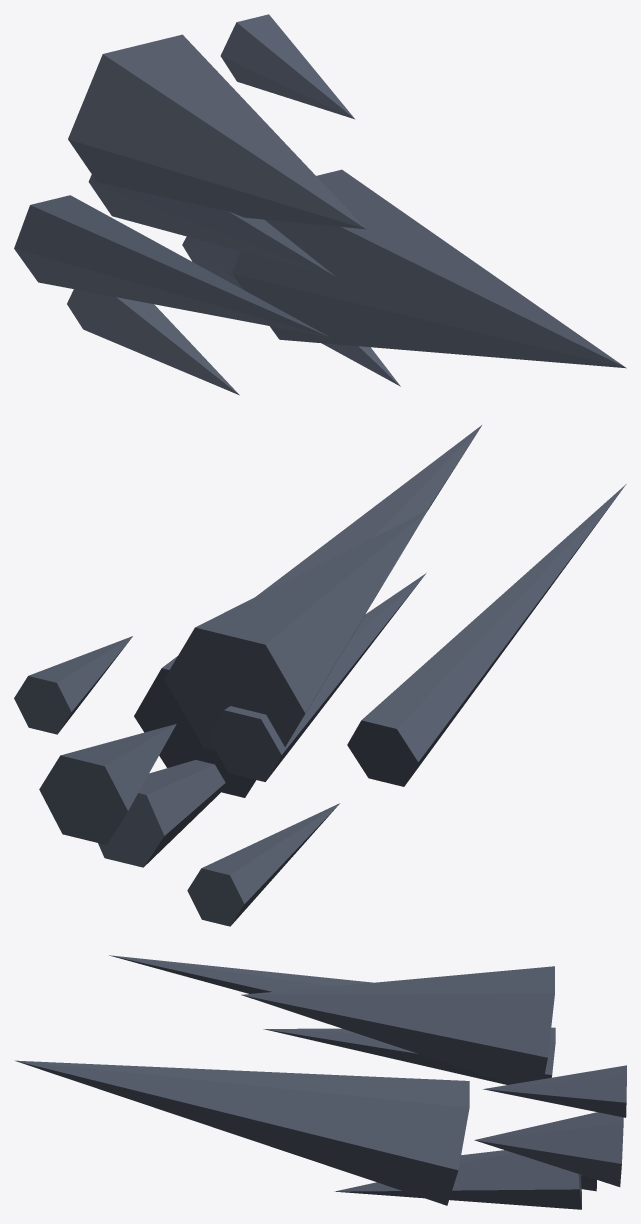
The model's file is Akariz_Crystal_Obsidian_Spire.glb.
3 renders of one model, top to bottom at view 1: azimuth 30°, elevation 25°; view 2: azimuth 150°, elevation 25°; view 3: azimuth 270°, elevation 25°, orthographic. The views are drawn at different scales.
Parts seen in each view (by area): view 1: Akariz_Crystal_Obsidian_Spire_6, Akariz_Crystal_Obsidian_Spire_0, Akariz_Crystal_Obsidian_Spire_1, Akariz_Crystal_Obsidian_Spire_5, Akariz_Crystal_Obsidian_Spire_2, Akariz_Crystal_Obsidian_Spire_4, Akariz_Crystal_Obsidian_Spire_3; view 2: Akariz_Crystal_Obsidian_Spire_0, Akariz_Crystal_Obsidian_Spire_1, Akariz_Crystal_Obsidian_Spire_6, Akariz_Crystal_Obsidian_Spire_7, Akariz_Crystal_Obsidian_Spire_5, Akariz_Crystal_Obsidian_Spire_3, Akariz_Crystal_Obsidian_Spire_2, Akariz_Crystal_Obsidian_Spire_4; view 3: Akariz_Crystal_Obsidian_Spire_6, Akariz_Crystal_Obsidian_Spire_0, Akariz_Crystal_Obsidian_Spire_3, Akariz_Crystal_Obsidian_Spire_7, Akariz_Crystal_Obsidian_Spire_4, Akariz_Crystal_Obsidian_Spire_1, Akariz_Crystal_Obsidian_Spire_5, Akariz_Crystal_Obsidian_Spire_2.
Boxes of the visible parts, box(x1,y1,x2,y2) form: Akariz_Crystal_Obsidian_Spire_6: box(232, 169, 626, 368); Akariz_Crystal_Obsidian_Spire_0: box(68, 34, 365, 229); Akariz_Crystal_Obsidian_Spire_1: box(14, 195, 329, 337); Akariz_Crystal_Obsidian_Spire_5: box(88, 174, 335, 276); Akariz_Crystal_Obsidian_Spire_2: box(67, 289, 239, 395); Akariz_Crystal_Obsidian_Spire_4: box(220, 14, 355, 119); Akariz_Crystal_Obsidian_Spire_3: box(182, 236, 400, 386); Akariz_Crystal_Obsidian_Spire_0: box(164, 510, 427, 750); Akariz_Crystal_Obsidian_Spire_1: box(347, 484, 626, 786); Akariz_Crystal_Obsidian_Spire_6: box(134, 425, 481, 797); Akariz_Crystal_Obsidian_Spire_7: box(39, 724, 176, 844); Akariz_Crystal_Obsidian_Spire_5: box(208, 573, 426, 781); Akariz_Crystal_Obsidian_Spire_3: box(98, 760, 225, 867); Akariz_Crystal_Obsidian_Spire_2: box(187, 803, 339, 926); Akariz_Crystal_Obsidian_Spire_4: box(14, 636, 132, 734); Akariz_Crystal_Obsidian_Spire_6: box(15, 1060, 469, 1205); Akariz_Crystal_Obsidian_Spire_0: box(241, 966, 554, 1084); Akariz_Crystal_Obsidian_Spire_3: box(334, 1153, 581, 1209); Akariz_Crystal_Obsidian_Spire_7: box(474, 1112, 623, 1186); Akariz_Crystal_Obsidian_Spire_4: box(482, 1065, 626, 1117); Akariz_Crystal_Obsidian_Spire_1: box(109, 955, 372, 993); Akariz_Crystal_Obsidian_Spire_5: box(263, 1027, 555, 1084); Akariz_Crystal_Obsidian_Spire_2: box(459, 1150, 596, 1191).
Bounding box in the file's own units: 1.37 × 1.07 × 2.84.
